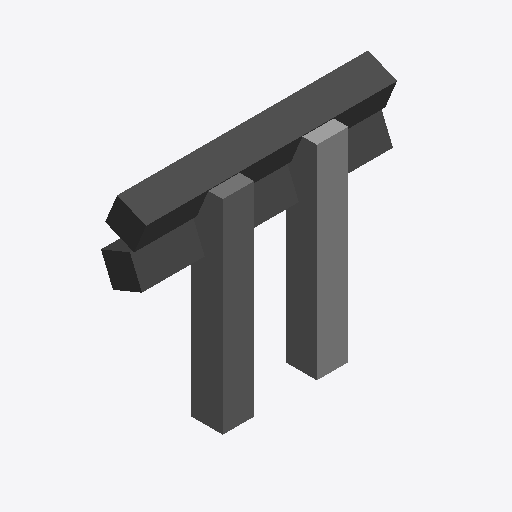
Isometric view (azimuth 45°, elevation 35.3°) of a Minecraft model made of 4 cuboids, textured from the same repository.
Parts seen in each view (by area): element 3, element 1, element 2, element 4.
Boxes of the visible parts, <box> form: element 3: <box>105,51,396,251</box>; element 1: <box>191,173,253,434</box>; element 2: <box>286,119,347,379</box>; element 4: <box>101,110,392,292</box>.
Size of the model in its own units: 16 by 13.85 by 3.77.